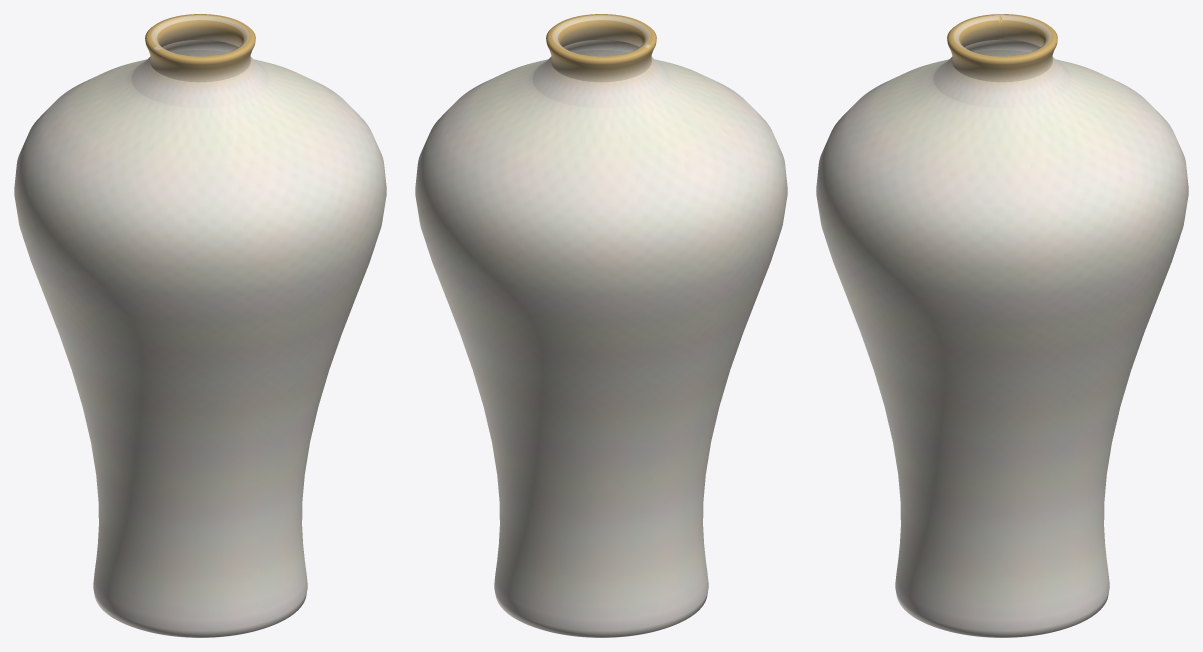
File: SongDingYao_PlumVase_Master.glb
3 views of the same model, side by side, from view 1: azimuth 30°, elevation 25°; view 2: azimuth 150°, elevation 25°; view 3: azimuth 270°, elevation 25° (orthographic).
Parts seen in each view (by area): view 1: SongDingYao_PlumVase_Master; view 2: SongDingYao_PlumVase_Master; view 3: SongDingYao_PlumVase_Master.
Part boxes in pixels (x1,y1,x2,y2): SongDingYao_PlumVase_Master: (14, 14, 386, 637); SongDingYao_PlumVase_Master: (415, 14, 787, 637); SongDingYao_PlumVase_Master: (816, 14, 1188, 637).
Size of the model in its own units: 0.1417 by 0.2345 by 0.1417.
1 material, 1 textured.
